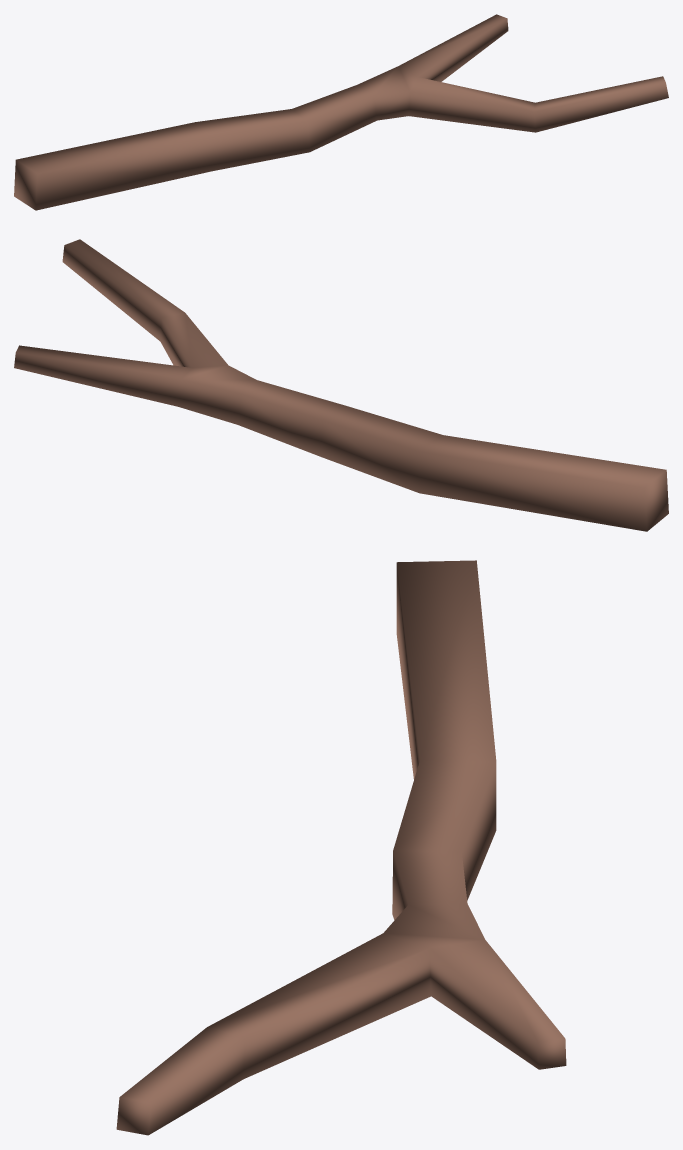
The model's file is Stick_LightBrown_5.fbx.
3 views of the same model, one above another, from view 1: azimuth 30°, elevation 25°; view 2: azimuth 150°, elevation 25°; view 3: azimuth 270°, elevation 25° (orthographic). The views are drawn at different scales.
Visible parts, largest first — view 1: Stick_LightBrown_5; view 2: Stick_LightBrown_5; view 3: Stick_LightBrown_5.
Boxes of the visible parts, box(x1,y1,x2,y2) form: Stick_LightBrown_5: box(14, 14, 668, 210); Stick_LightBrown_5: box(14, 239, 668, 531); Stick_LightBrown_5: box(116, 560, 566, 1135).
Bounding box in the file's own units: 213 × 18.62 × 72.8.
